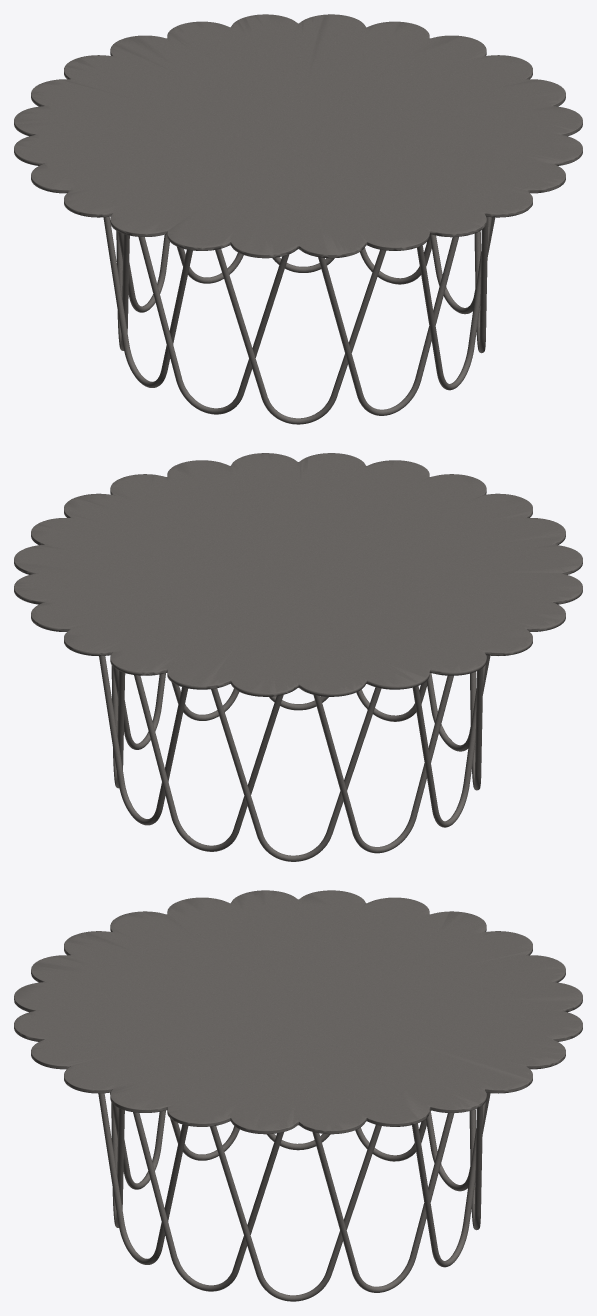
Rendered from herman-miller-girard-flower-table.optimized.glb.
3 views of the same model, one above another, from view 1: azimuth 30°, elevation 25°; view 2: azimuth 150°, elevation 25°; view 3: azimuth 270°, elevation 25° (orthographic).
Parts seen in each view (by area): view 1: HRM-GIRARD_FLOWER_TABLE_SMALL_FRAME__vcn_mes_000079_000012af; view 2: HRM-GIRARD_FLOWER_TABLE_SMALL_FRAME__vcn_mes_000079_000012af; view 3: HRM-GIRARD_FLOWER_TABLE_SMALL_FRAME__vcn_mes_000079_000012af.
Part boxes in pixels (bbox=[...]): HRM-GIRARD_FLOWER_TABLE_SMALL_FRAME__vcn_mes_000079_000012af: bbox=[14, 14, 582, 424]; HRM-GIRARD_FLOWER_TABLE_SMALL_FRAME__vcn_mes_000079_000012af: bbox=[14, 453, 582, 861]; HRM-GIRARD_FLOWER_TABLE_SMALL_FRAME__vcn_mes_000079_000012af: bbox=[14, 890, 582, 1301].
Size of what is drawn, in the model's own units: 0.5969 by 0.2477 by 0.5969.
1 material, 1 textured.
